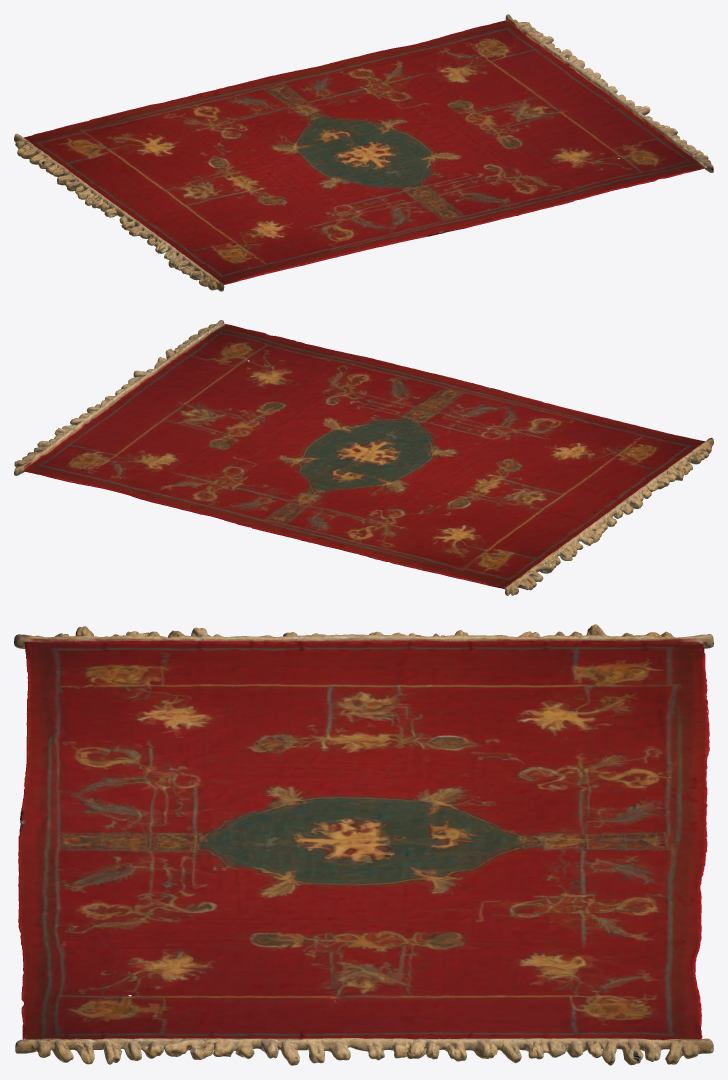
File: Meshy_AI_The_large_medieval_ca_0225023619_texture.glb
3 renders of one model, top to bottom at view 1: azimuth 30°, elevation 25°; view 2: azimuth 150°, elevation 25°; view 3: azimuth 270°, elevation 25°, orthographic. The views are drawn at different scales.
Size of the model in its own units: 1.9 by 0.0457 by 1.32.
1 material, 1 textured.
